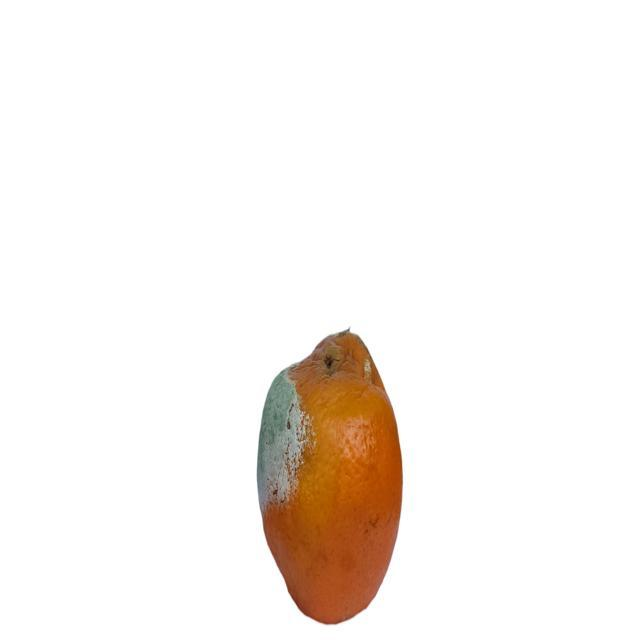rotten orange: (255, 326, 403, 625)
